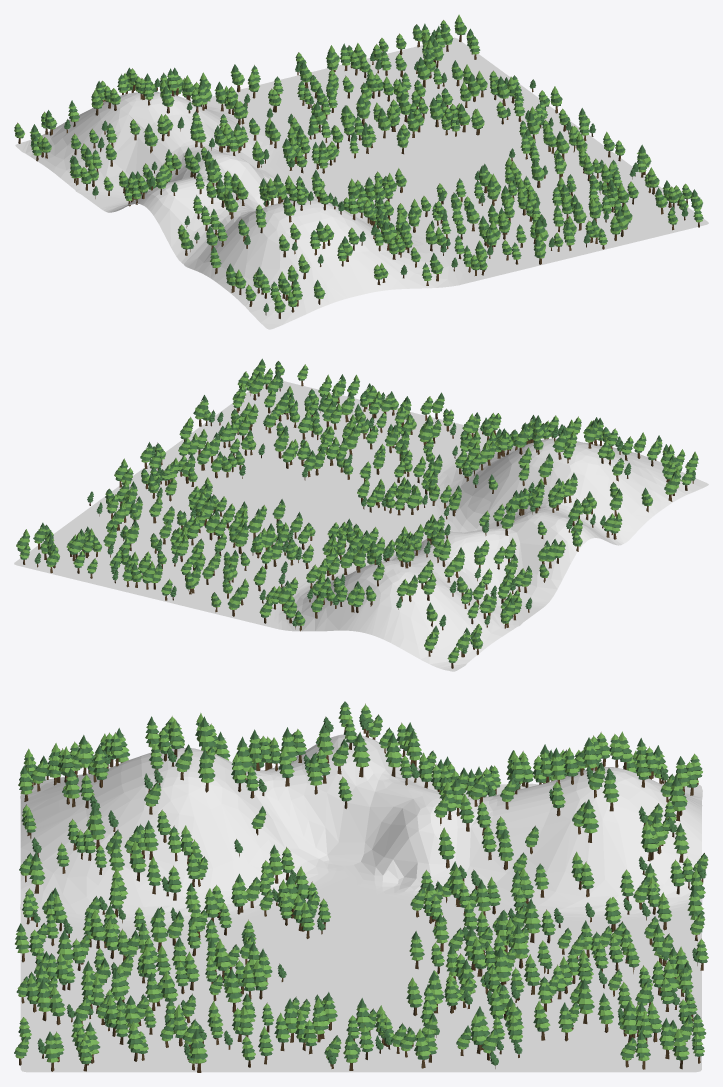
The model's file is Level1Terrain.fbx.
The picture shows the model from 3 angles, top to bottom: view 1: azimuth 30°, elevation 25°; view 2: azimuth 150°, elevation 25°; view 3: azimuth 270°, elevation 25°; orthographic projection. The views are drawn at different scales.
Visible parts, largest first — view 1: Plane; view 2: Plane; view 3: Plane.
Boxes of the visible parts, x1,y1,x2,y2 form: Plane: (14,14,708,329); Plane: (14,358,708,671); Plane: (14,701,708,1072).
Size of the model in its own units: 10373 by 1954 by 10294.
